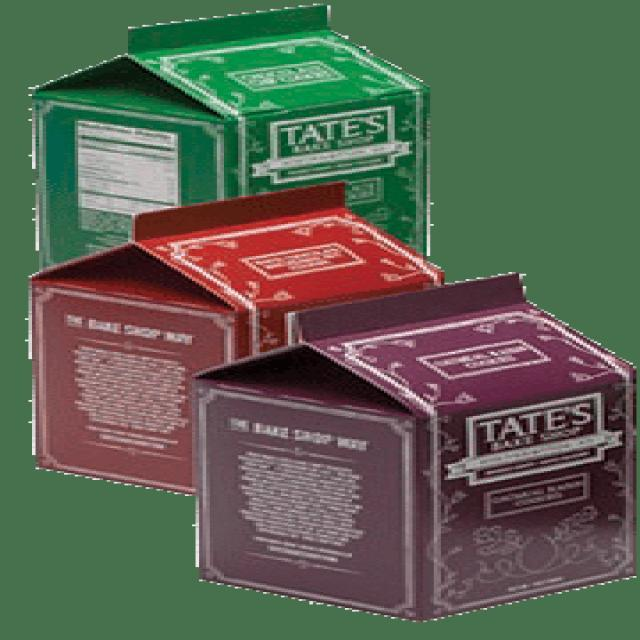Carton: (167, 263, 640, 631), (18, 183, 456, 486), (13, 1, 450, 301)
